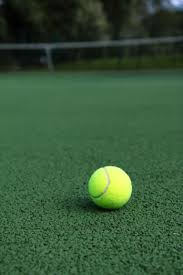tennis_ball: (87, 165, 133, 211)
